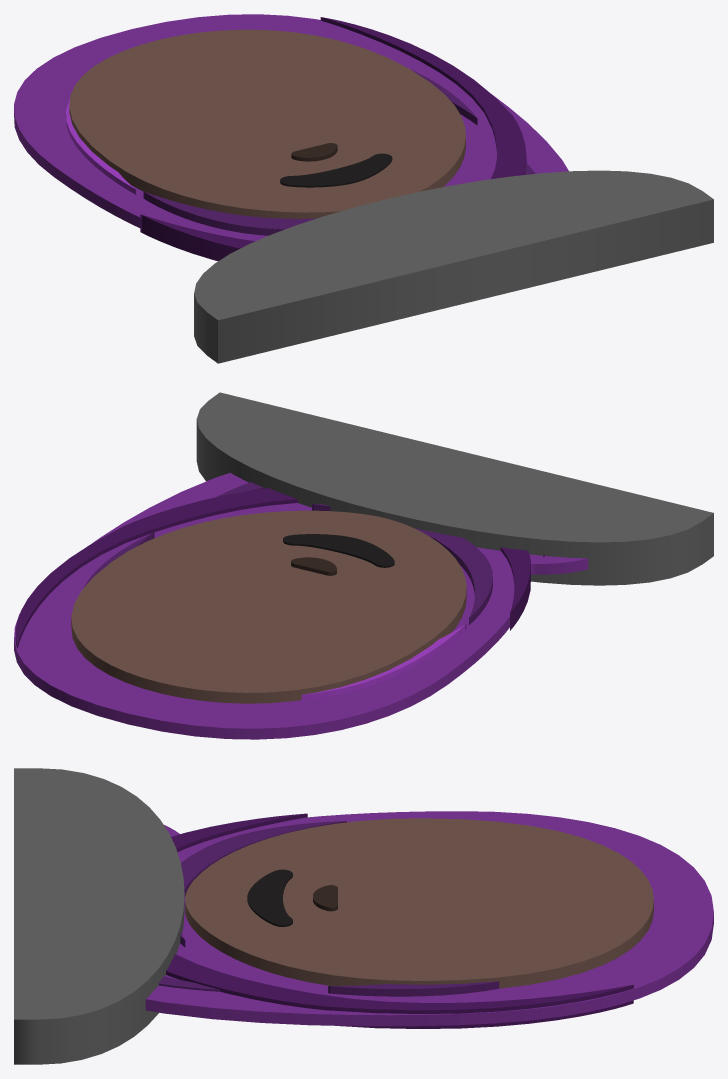
Rendered from emoji_u1f9d5_1f3ff.glb.
3 views of the same model, one above another, from view 1: azimuth 30°, elevation 25°; view 2: azimuth 150°, elevation 25°; view 3: azimuth 270°, elevation 25° (orthographic). The views are drawn at different scales.
Visible parts, largest first — view 1: emoji_u1f9d5_1f3ff; view 2: emoji_u1f9d5_1f3ff; view 3: emoji_u1f9d5_1f3ff.
Boxes of the visible parts, left/top/right/bottom form: emoji_u1f9d5_1f3ff: left=14, top=14, right=713, bottom=363; emoji_u1f9d5_1f3ff: left=14, top=392, right=713, bottom=739; emoji_u1f9d5_1f3ff: left=14, top=768, right=713, bottom=1064.
Size of the model in its own units: 0.0287 by 0.0024 by 0.0338.
